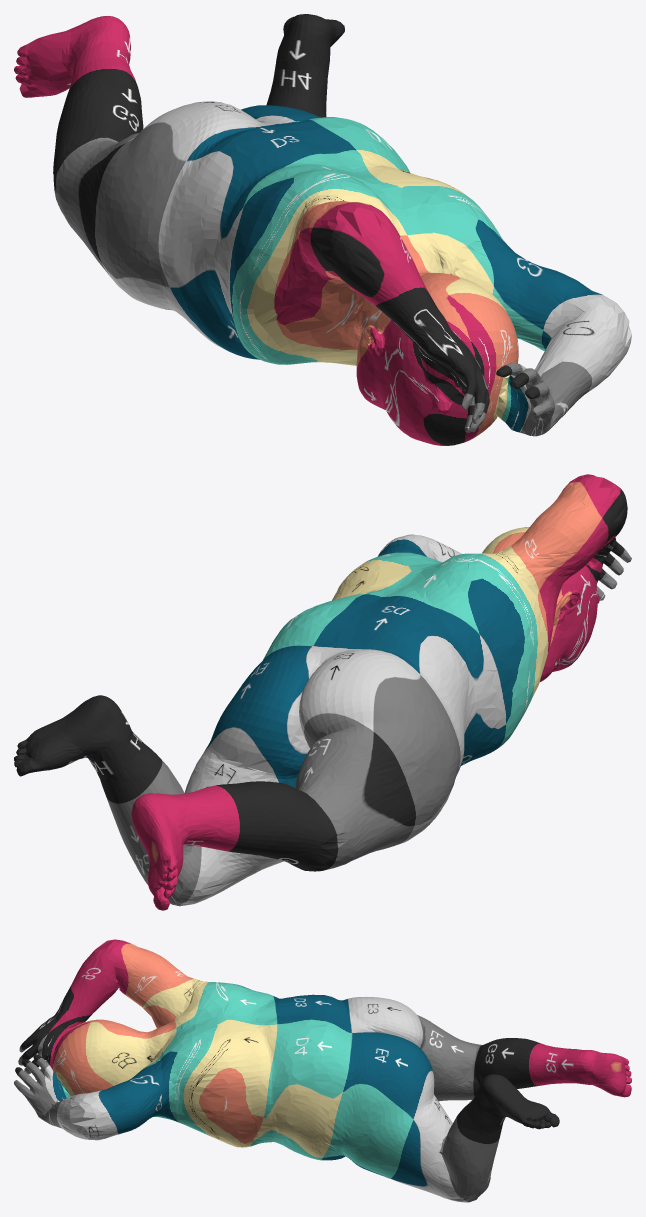
The model's file is kid00-kid17.obj.
The picture shows the model from 3 angles, top to bottom: view 1: azimuth 30°, elevation 25°; view 2: azimuth 150°, elevation 25°; view 3: azimuth 270°, elevation 25°; orthographic projection. The views are drawn at different scales.
Visible parts, largest first — view 1: kid00-kid17_export; view 2: kid00-kid17_export; view 3: kid00-kid17_export.
Part boxes in pixels (box(x1,y1,x2,y2)): kid00-kid17_export: box(14, 14, 631, 445); kid00-kid17_export: box(14, 474, 631, 910); kid00-kid17_export: box(14, 939, 631, 1202).
Size of the model in its own units: 0.4619 by 0.4023 by 1.11.
1 material, 1 textured.
